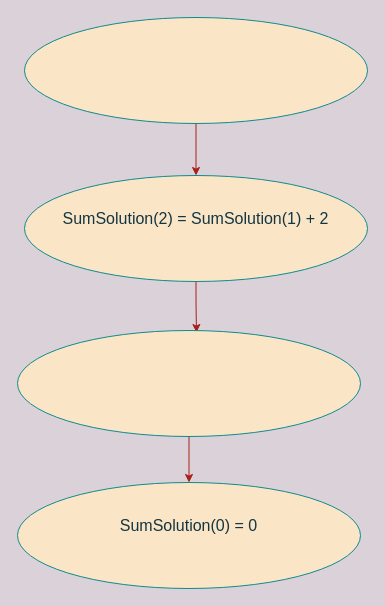
The diagram is 385 pixels wide and 606 high, and some of its shapes have lost their labels. Each missing label, with the centre of its shape:
"SumSolution(1) = SumSolution(0) + 1" goes at pixel 188 383.
"SumSolution(3) = SumSolution(2) + 3" goes at pixel 196 70.
